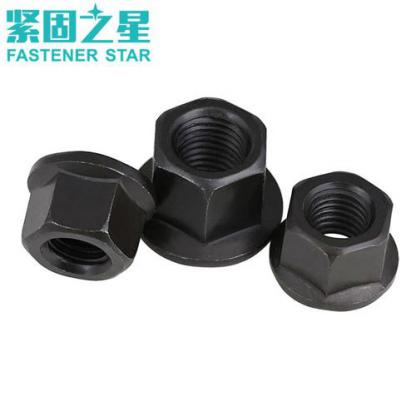FOD: (127, 93, 286, 268), (265, 169, 406, 314), (19, 150, 154, 284)
